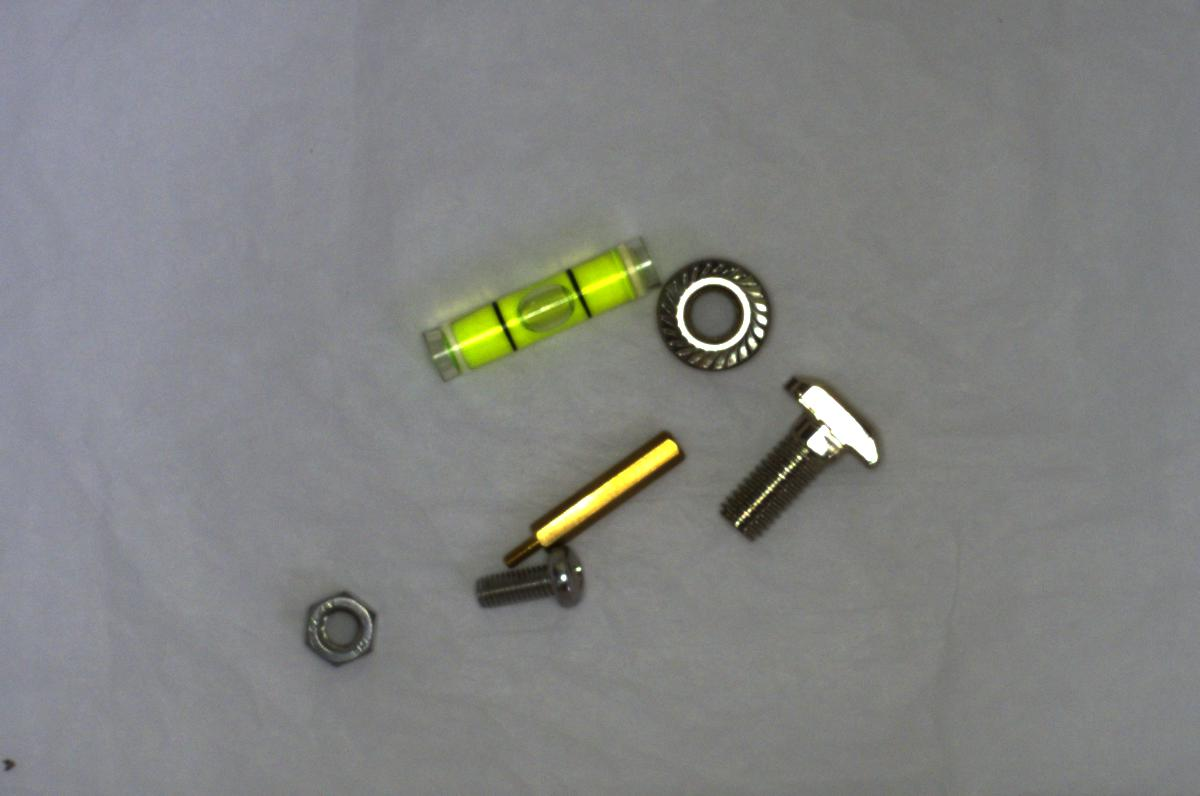Flange nut: (650, 252, 775, 375)
Hexagon nut: (305, 581, 379, 669)
Hexagon pillar: (501, 427, 691, 576)
Horizontal bubble: (414, 230, 665, 394)
Round head screw: (467, 548, 594, 610)
T-shaped screw: (707, 373, 880, 549)
